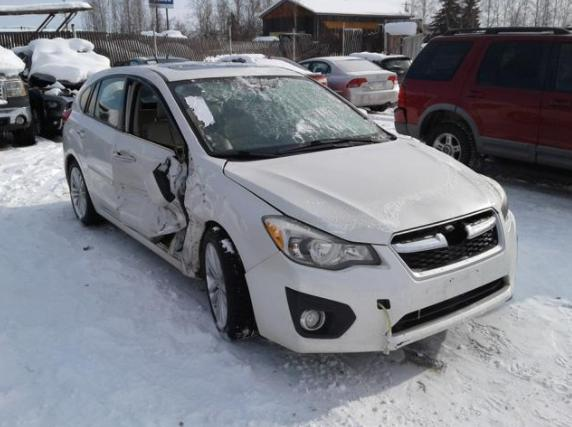Back-door: (77, 74, 128, 221)
Back-wheel: (68, 161, 96, 221)
Back-window: (95, 77, 125, 128), (88, 82, 100, 114), (80, 86, 91, 112)
Fender: (182, 139, 284, 273)
Front-bumper: (245, 210, 517, 353)
Front-door: (111, 74, 188, 243)
Front-wheel: (203, 228, 258, 340)
Front-window: (126, 80, 182, 150)
Grille: (388, 208, 504, 280)
Headlight: (263, 215, 380, 271), (480, 174, 509, 221)
Hood: (223, 137, 502, 245)
Mirror: (144, 157, 175, 207), (357, 108, 367, 116)
Quarter-panel: (62, 108, 83, 179)
Rocker-panel: (95, 206, 195, 277)
Roof: (119, 61, 304, 82)
Tail-light: (61, 109, 71, 124)
Windshield: (167, 76, 389, 161)
